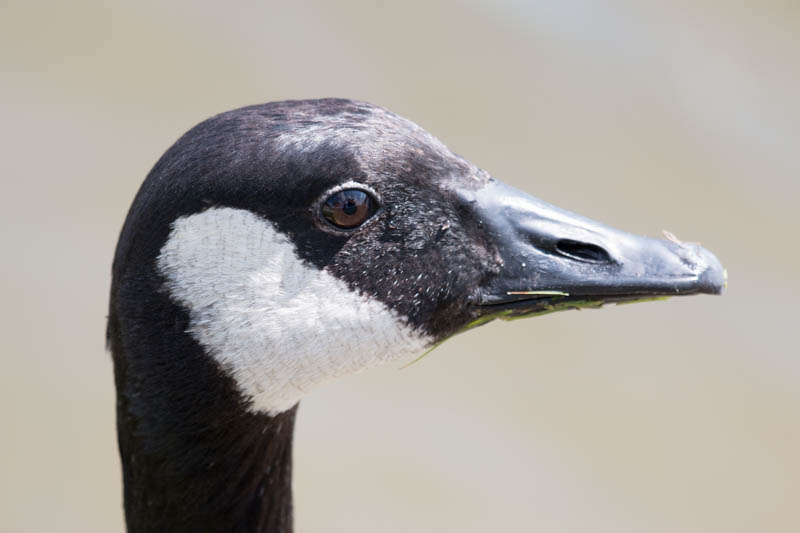goose-head: (104, 97, 730, 419)
